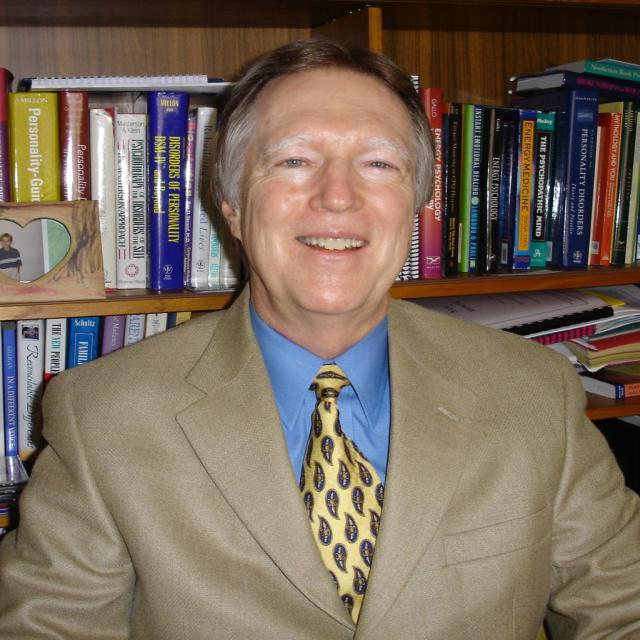Face: (228, 68, 429, 333)
